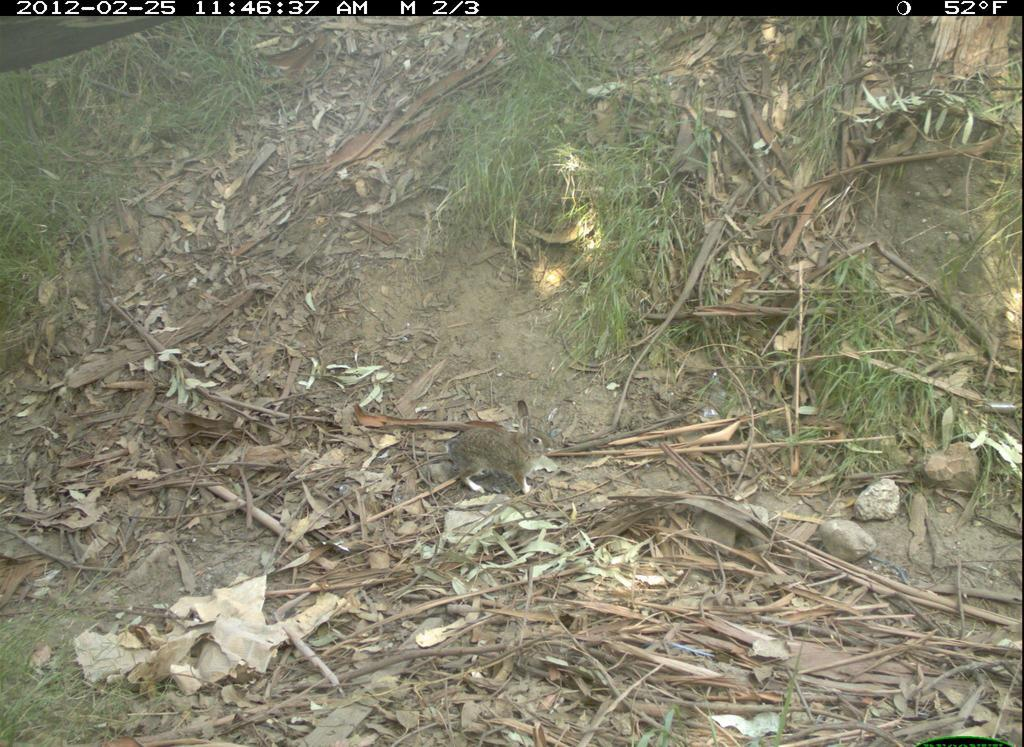rabbit: (446, 396, 560, 507)
